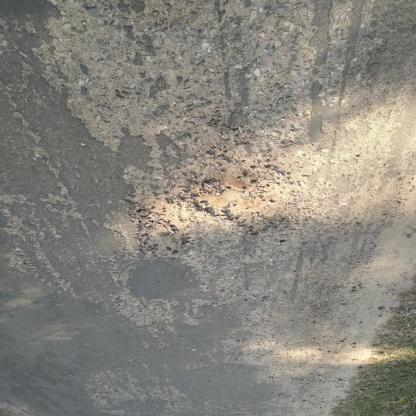pothole: (194, 158, 304, 238), (130, 192, 196, 260)
